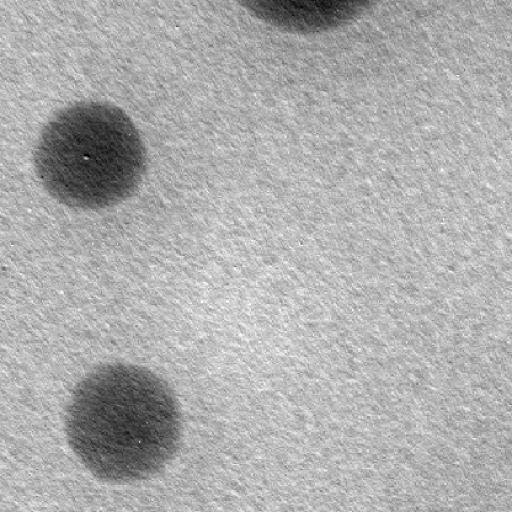Nanoparticles: (63, 360, 185, 482), (33, 99, 147, 208), (240, 0, 377, 32)
